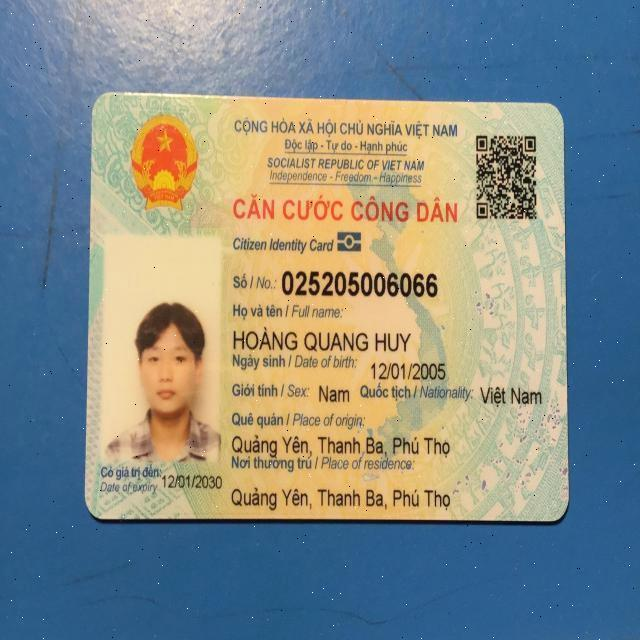current_place: (230, 483, 451, 513)
dob: (371, 358, 451, 384)
expire_date: (161, 472, 221, 493)
gender: (316, 382, 350, 411)
id: (276, 264, 441, 302)
name: (230, 323, 412, 353)
nationality: (480, 385, 544, 412)
origin_place: (230, 431, 452, 459)
